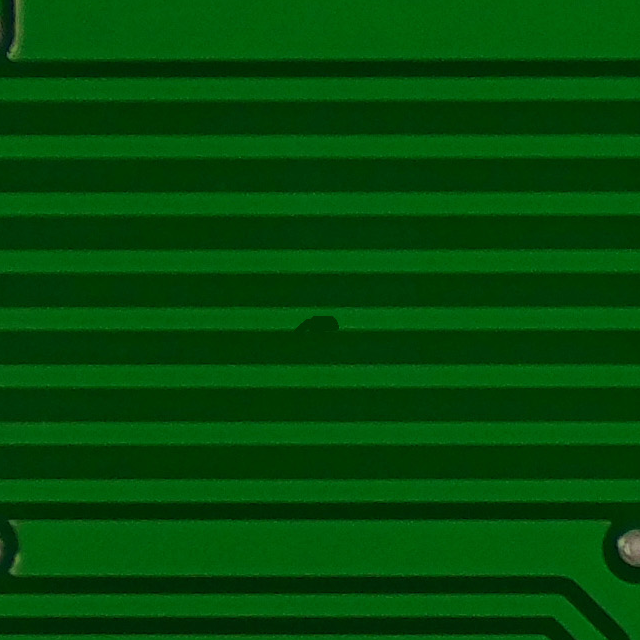mouse_bite: (281, 298, 359, 343)
